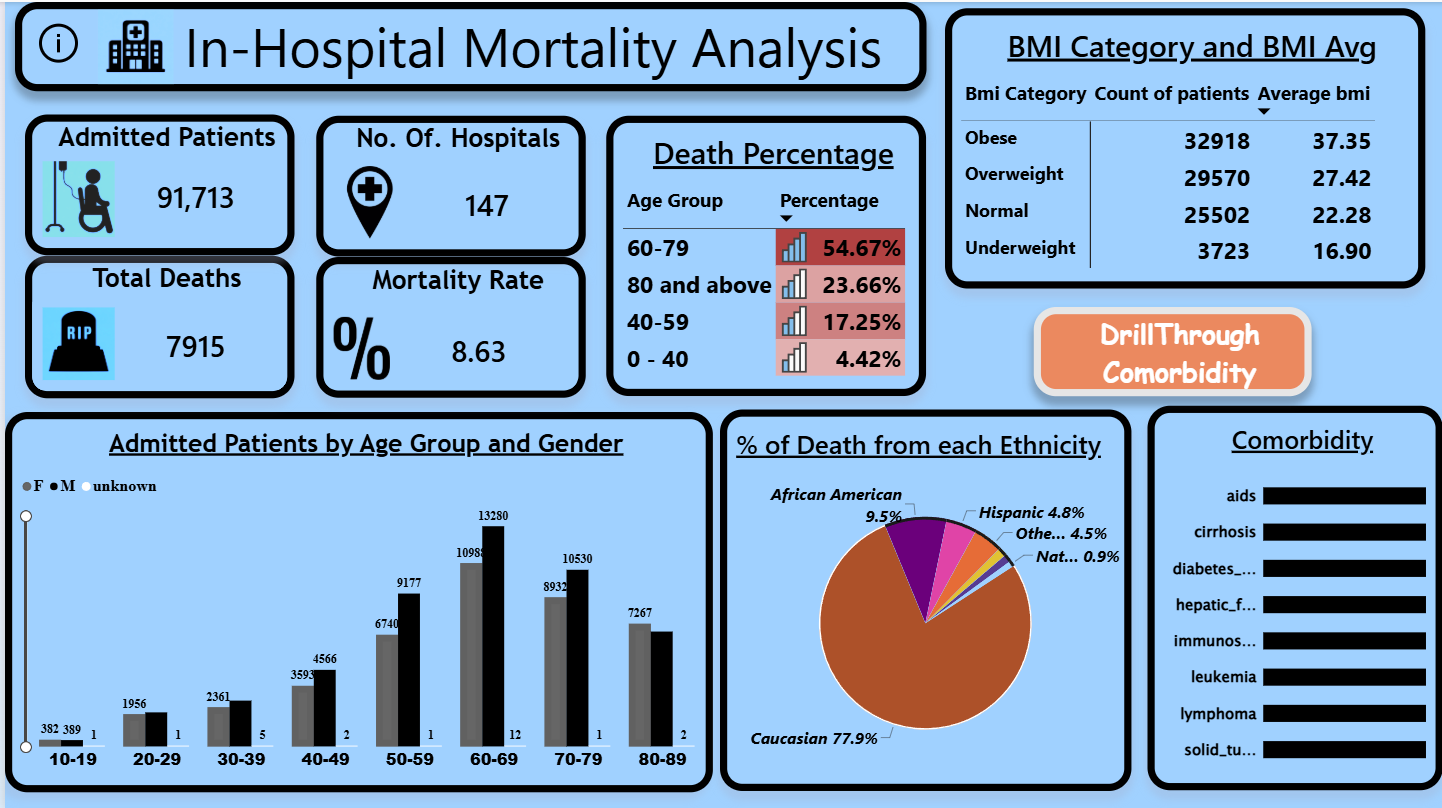

This screenshot's page, from the dashboard's own definition file:
{"tool":"powerbi","page":{"name":"Overview","canvas":[1920,1080],"ordinal":0},"visuals":[{"type":"textbox","box":[12.7,0,1217.9,119.4],"z":0},{"type":"actionButton","box":[12.7,1.8,115.8,106.8],"z":1000},{"type":"cardVisual","title":"No. Of. Hospitals","fields":{"Data":["Count(cleaned_hospital_data.hospital_id)"]},"box":[416.2,152,360.1,188.2],"z":2000},{"type":"clusteredColumnChart","title":"Admitted Patients by Age Group and Gender","fields":{"Category":["cleaned_hospital_data.age_interval"],"Y":["Sum(cleaned_hospital_data.patient_id)"],"Series":["cleaned_hospital_data.gender"]},"box":[0,546.9,945.8,507.9],"z":3000},{"type":"tableEx","title":"Death Percentage","fields":{"Values":["cleaned_hospital_data.age_group_q8","Sum(cleaned_hospital_data.hospital_death)"]},"box":[803.5,152,427.1,374.6],"z":4000},{"type":"cardVisual","title":"Total Deaths","fields":{"Data":["Sum(cleaned_hospital_data.hospital_death)"]},"box":[27.1,338.4,360.1,190],"z":5000},{"type":"cardVisual","title":"Mortality Rate","fields":{"Data":["cleaned_hospital_data.Mortality Rate %"]},"box":[416.2,340.2,360.1,188.2],"z":6000},{"type":"donutChart","title":"% of Death from each Ethnicity","fields":{"Category":["cleaned_hospital_data.ethnicity"],"Y":["cleaned_hospital_data.Total Deaths"]},"box":[955.8,544.2,549.4,509.3],"z":8000},{"type":"clusteredBarChart","title":"Comorbidity","fields":{"Category":["cleaned_hospital_data (2).Comorbidity"],"Y":["cleaned_hospital_data.Total Deaths"]},"box":[1525.5,539.3,394.5,513.9],"z":9000},{"type":"pivotTable","title":"BMI Category and BMI Avg","fields":{"Rows":["cleaned_hospital_data.bmi_category"],"Values":["CountNonNull(cleaned_hospital_data.patient_id)","Avg(cleaned_hospital_data.bmi)"]},"box":[1255.9,9,641.5,374.2],"z":9500},{"type":"actionButton","title":"DrillThrough Comorbidity","box":[1373.5,407.2,371,119.4],"z":10000},{"type":"cardVisual","title":"Admitted Patients","fields":{"Data":["CountNonNull(cleaned_hospital_data.patient_id)"]},"box":[27.1,150.2,360.1,188.2],"z":11000},{"type":"image","box":[118.6,10,111.9,100.2],"z":12000}]}

Visuals, with their boxes in screenshot pixels (x1, y1, x2, y2), scaled from the page's 1920x1080 canvas onto the 1442x808 screenshot:
textbox: region(10, 0, 924, 89)
actionButton: region(10, 1, 97, 81)
"No. Of. Hospitals" cardVisual: region(313, 114, 583, 255)
"Admitted Patients by Age Group and Gender" clusteredColumnChart: region(0, 409, 710, 789)
"Death Percentage" tableEx: region(603, 114, 924, 394)
"Total Deaths" cardVisual: region(20, 253, 291, 395)
"Mortality Rate" cardVisual: region(313, 255, 583, 395)
"% of Death from each Ethnicity" donutChart: region(718, 407, 1130, 788)
"Comorbidity" clusteredBarChart: region(1146, 403, 1441, 788)
"BMI Category and BMI Avg" pivotTable: region(943, 7, 1425, 287)
"DrillThrough Comorbidity" actionButton: region(1032, 305, 1310, 394)
"Admitted Patients" cardVisual: region(20, 112, 291, 253)
image: region(89, 7, 173, 82)
